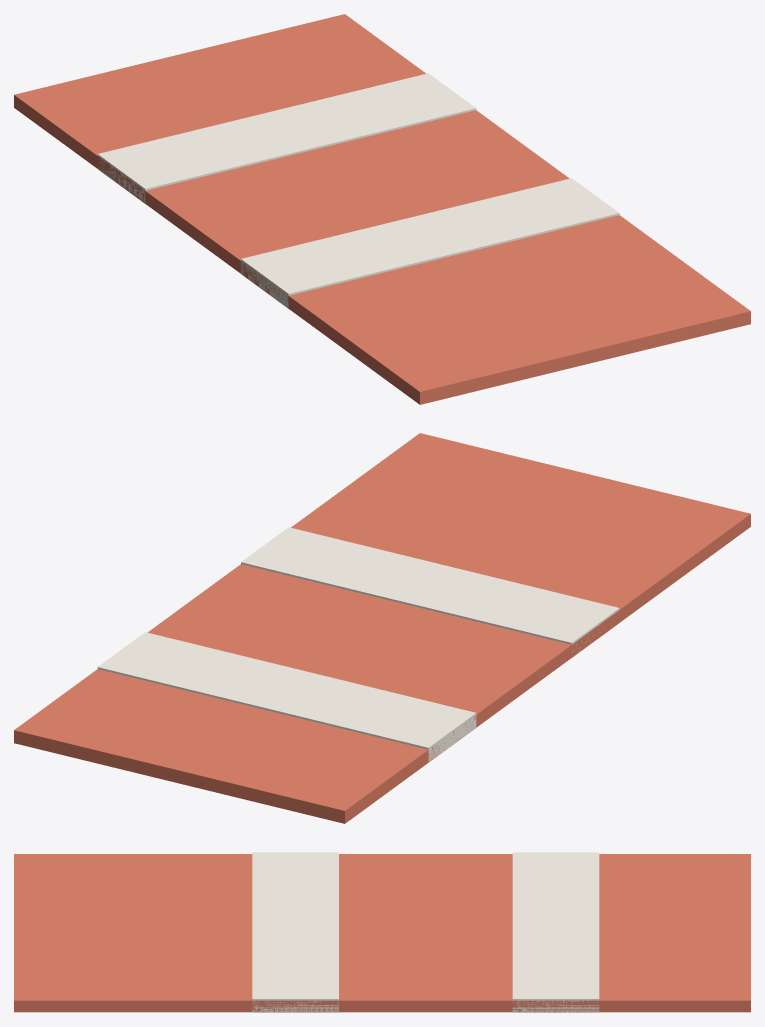
Rendered from beach_towel.glb.
The picture shows the model from 3 angles, top to bottom: view 1: azimuth 30°, elevation 25°; view 2: azimuth 150°, elevation 25°; view 3: azimuth 270°, elevation 25°; orthographic projection. The views are drawn at different scales.
Parts seen in each view (by area): view 1: beach_towel; view 2: beach_towel; view 3: beach_towel.
Boxes of the visible parts, box(x1,y1,x2,y2) form: beach_towel: box(14, 14, 750, 404); beach_towel: box(14, 433, 750, 823); beach_towel: box(14, 852, 750, 1012).
Size of the model in its own units: 0.8 by 0.035 by 1.7.
